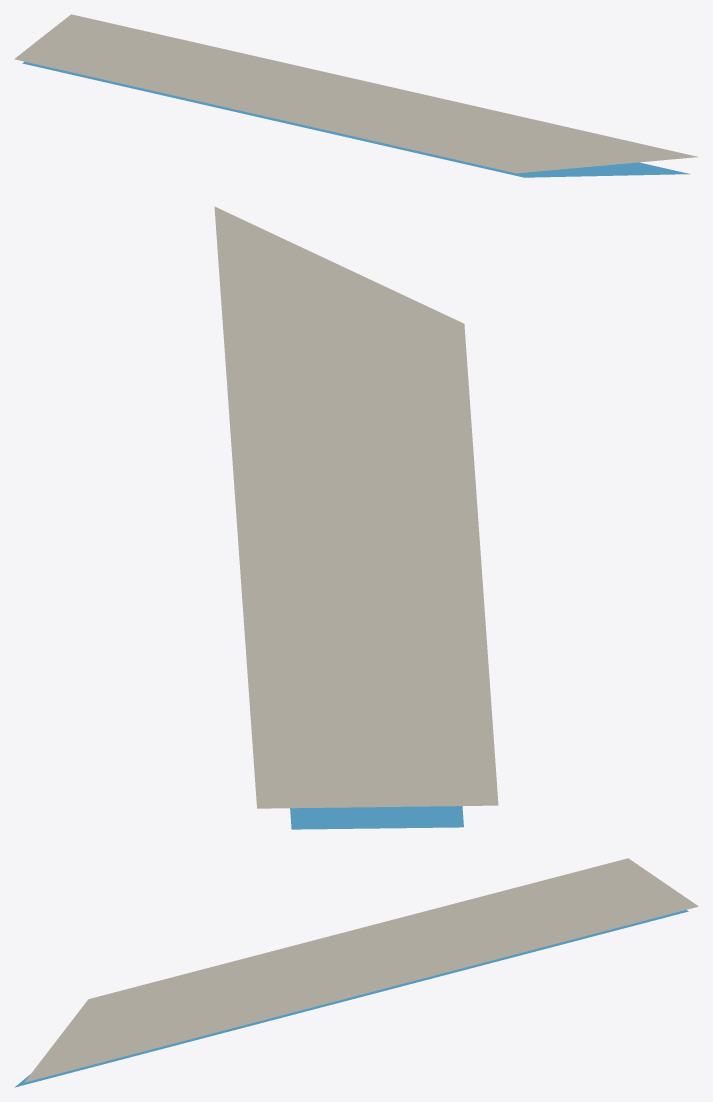
3 renders of one model, top to bottom at view 1: azimuth 30°, elevation 25°; view 2: azimuth 150°, elevation 25°; view 3: azimuth 270°, elevation 25°, orthographic. The views are drawn at different scales.
Visible parts, largest first — view 1: estructura_terreno, estructura_agua; view 2: estructura_terreno, estructura_agua; view 3: estructura_terreno, estructura_agua.
Boxes of the visible parts, x1=… form: estructura_terreno: x1=14, y1=14, x2=697, y2=173; estructura_agua: x1=22, y1=61, x2=690, y2=177; estructura_terreno: x1=214, y1=206, x2=498, y2=808; estructura_agua: x1=290, y1=806, x2=463, y2=829; estructura_terreno: x1=24, y1=858, x2=698, y2=1082; estructura_agua: x1=14, y1=910, x2=688, y2=1087.
Bounding box in the file's own units: 16.6 × 0.41 × 21.4.
